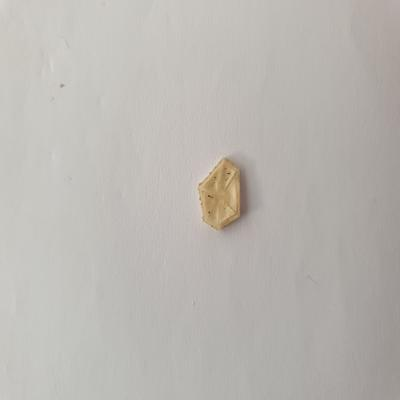plastic: (196, 152, 249, 234)
